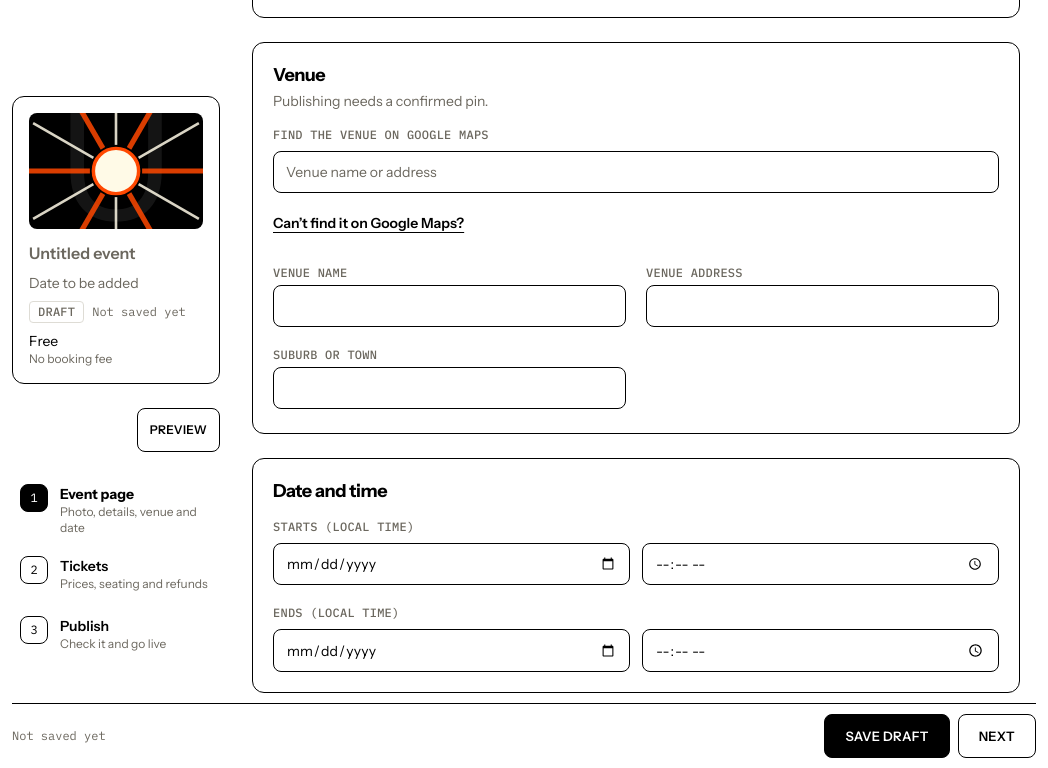
Scenario: VenueSuburbField — resolving the suburb › names the place and its zone under the field, politely, and the date legends follow
(page scrolled)
Expected: the text "Starts (local time)" is shown, [273,519,414,535]
Expected: the text "Ends (local time)" is shown, [273,605,400,621]
Type "Footscray" into the field labelled "Suburb or town".
click(450, 388); type("Footscray")  # box [273,367,626,409]
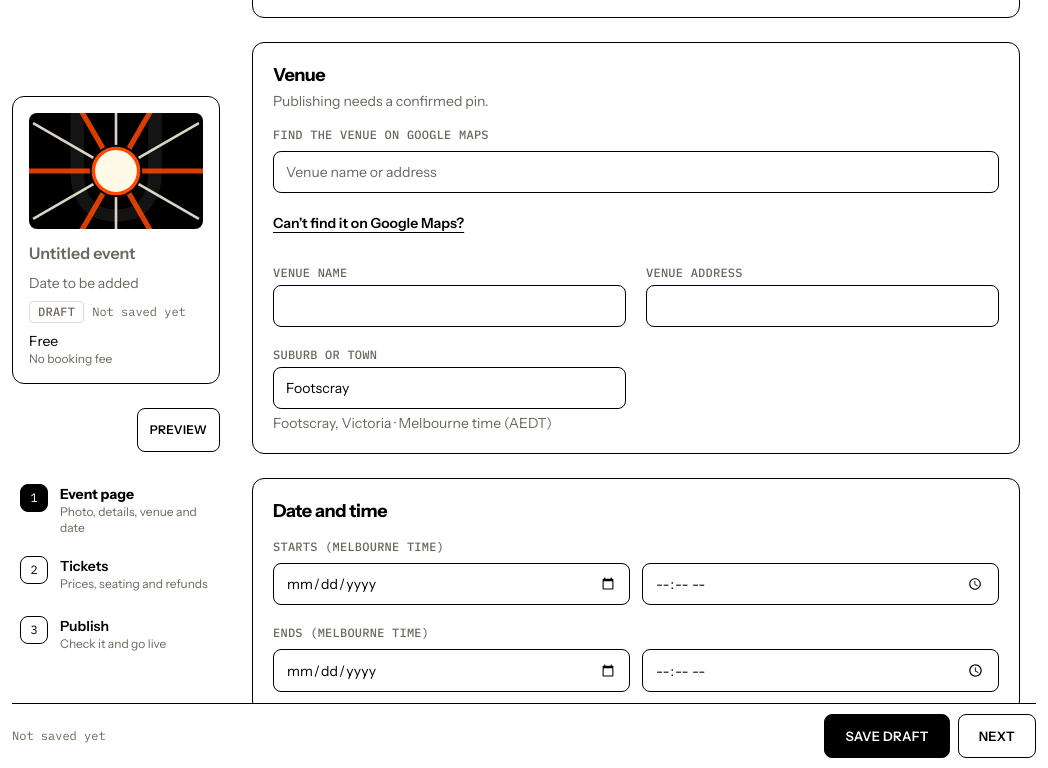
Expected: the text with id "suburb-hint" reads "Footscray, Victoria · Melbourne time (AEDT)", [273,414,552,432]
Expected: the text "Starts (Melbourne time)" is shown, [273,539,444,555]
